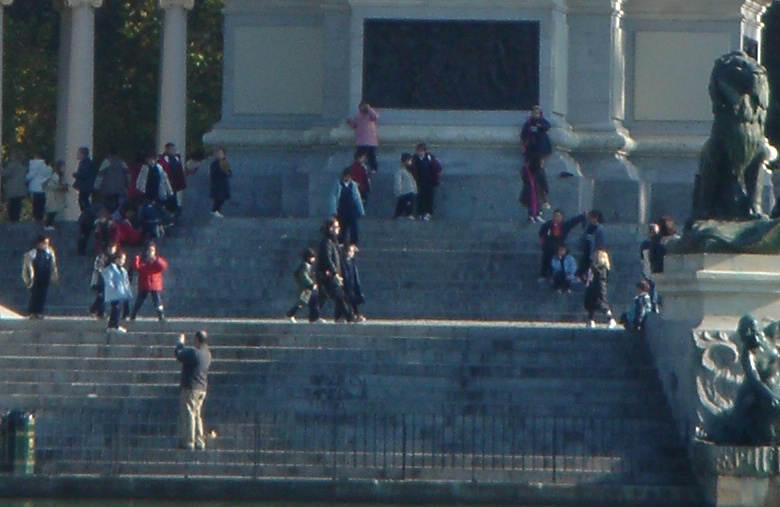person: (578, 243, 619, 332), (347, 99, 381, 173)
